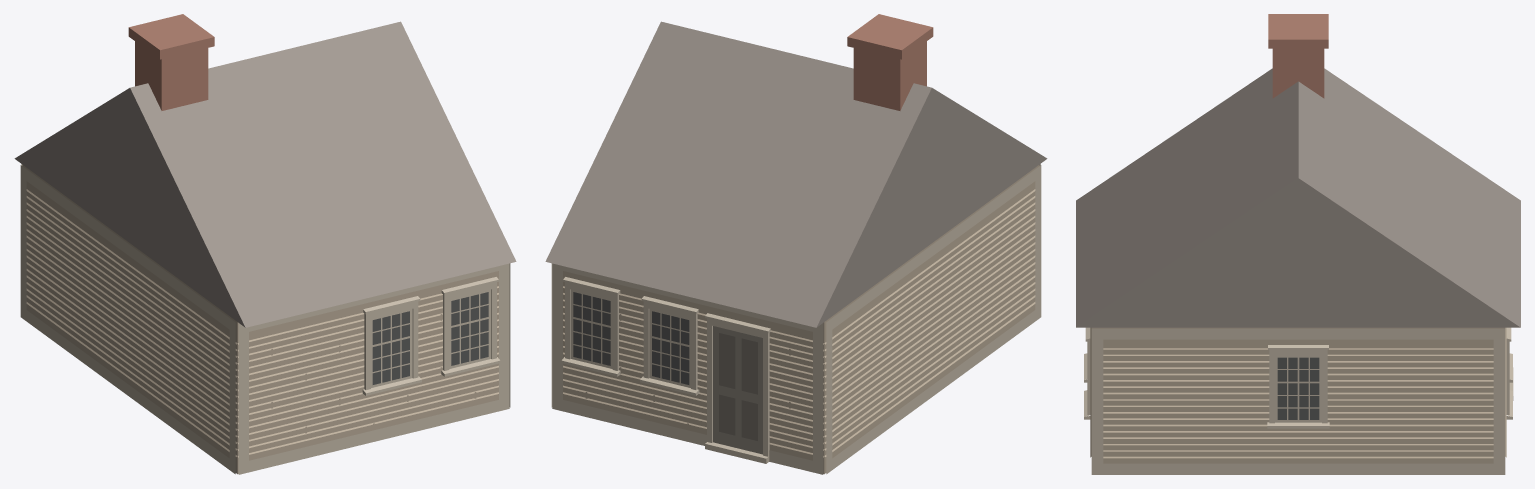
Rendered from inf_sawyer_dwelling_a__inferred_1835.glb.
3 views of the same model, side by side, from view 1: azimuth 30°, elevation 25°; view 2: azimuth 150°, elevation 25°; view 3: azimuth 270°, elevation 25° (orthographic). The views are drawn at different scales.
Visible parts, largest first — view 1: inf_sawyer_dwelling_a__inferred_1835; view 2: inf_sawyer_dwelling_a__inferred_1835; view 3: inf_sawyer_dwelling_a__inferred_1835.
Part boxes in pixels (x1=…): inf_sawyer_dwelling_a__inferred_1835: x1=14, y1=14, x2=516, y2=474; inf_sawyer_dwelling_a__inferred_1835: x1=545, y1=14, x2=1047, y2=474; inf_sawyer_dwelling_a__inferred_1835: x1=1076, y1=14, x2=1520, y2=474.
Bounding box in the file's own units: 5.03 × 6.07 × 7.21.
